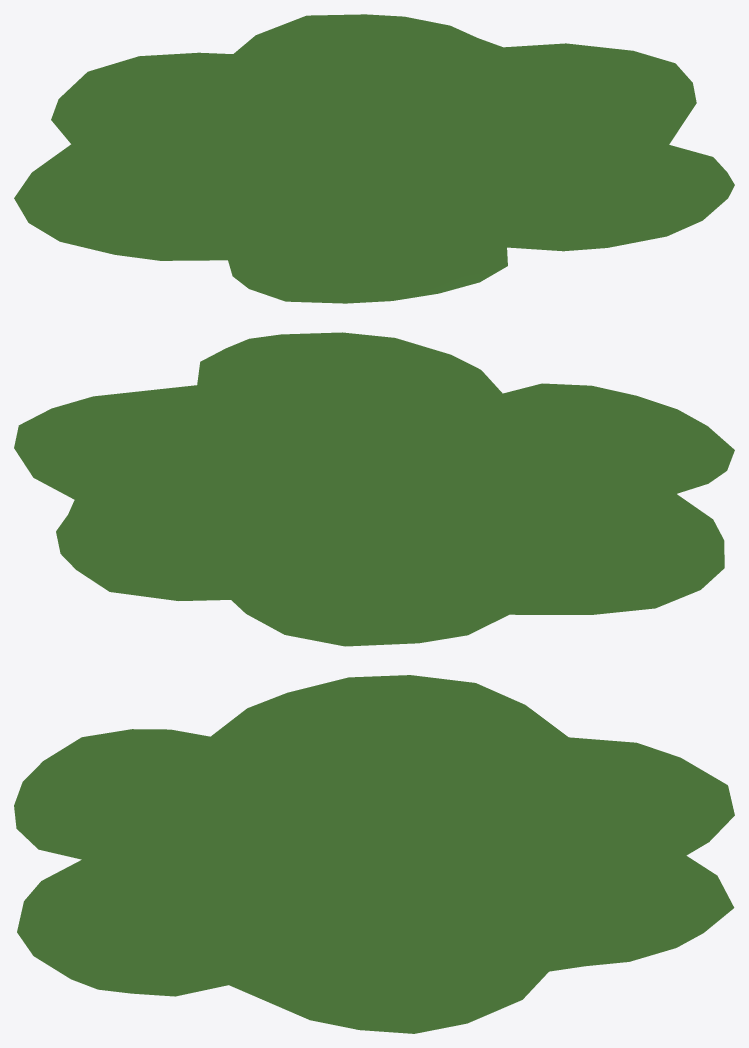
Rendered from plant_water_lily_pad_D.fbx.
3 views of the same model, one above another, from view 1: azimuth 30°, elevation 25°; view 2: azimuth 150°, elevation 25°; view 3: azimuth 270°, elevation 25° (orthographic). The views are drawn at different scales.
Visible parts, largest first — view 1: plant_water_lily_pad_D; view 2: plant_water_lily_pad_D; view 3: plant_water_lily_pad_D.
Part boxes in pixels (x1,y1,x2,y2): plant_water_lily_pad_D: (14,14,734,303); plant_water_lily_pad_D: (14,332,734,646); plant_water_lily_pad_D: (14,675,734,1033).
Size of the model in its own units: 17.27 by 0.00604 by 14.66.
